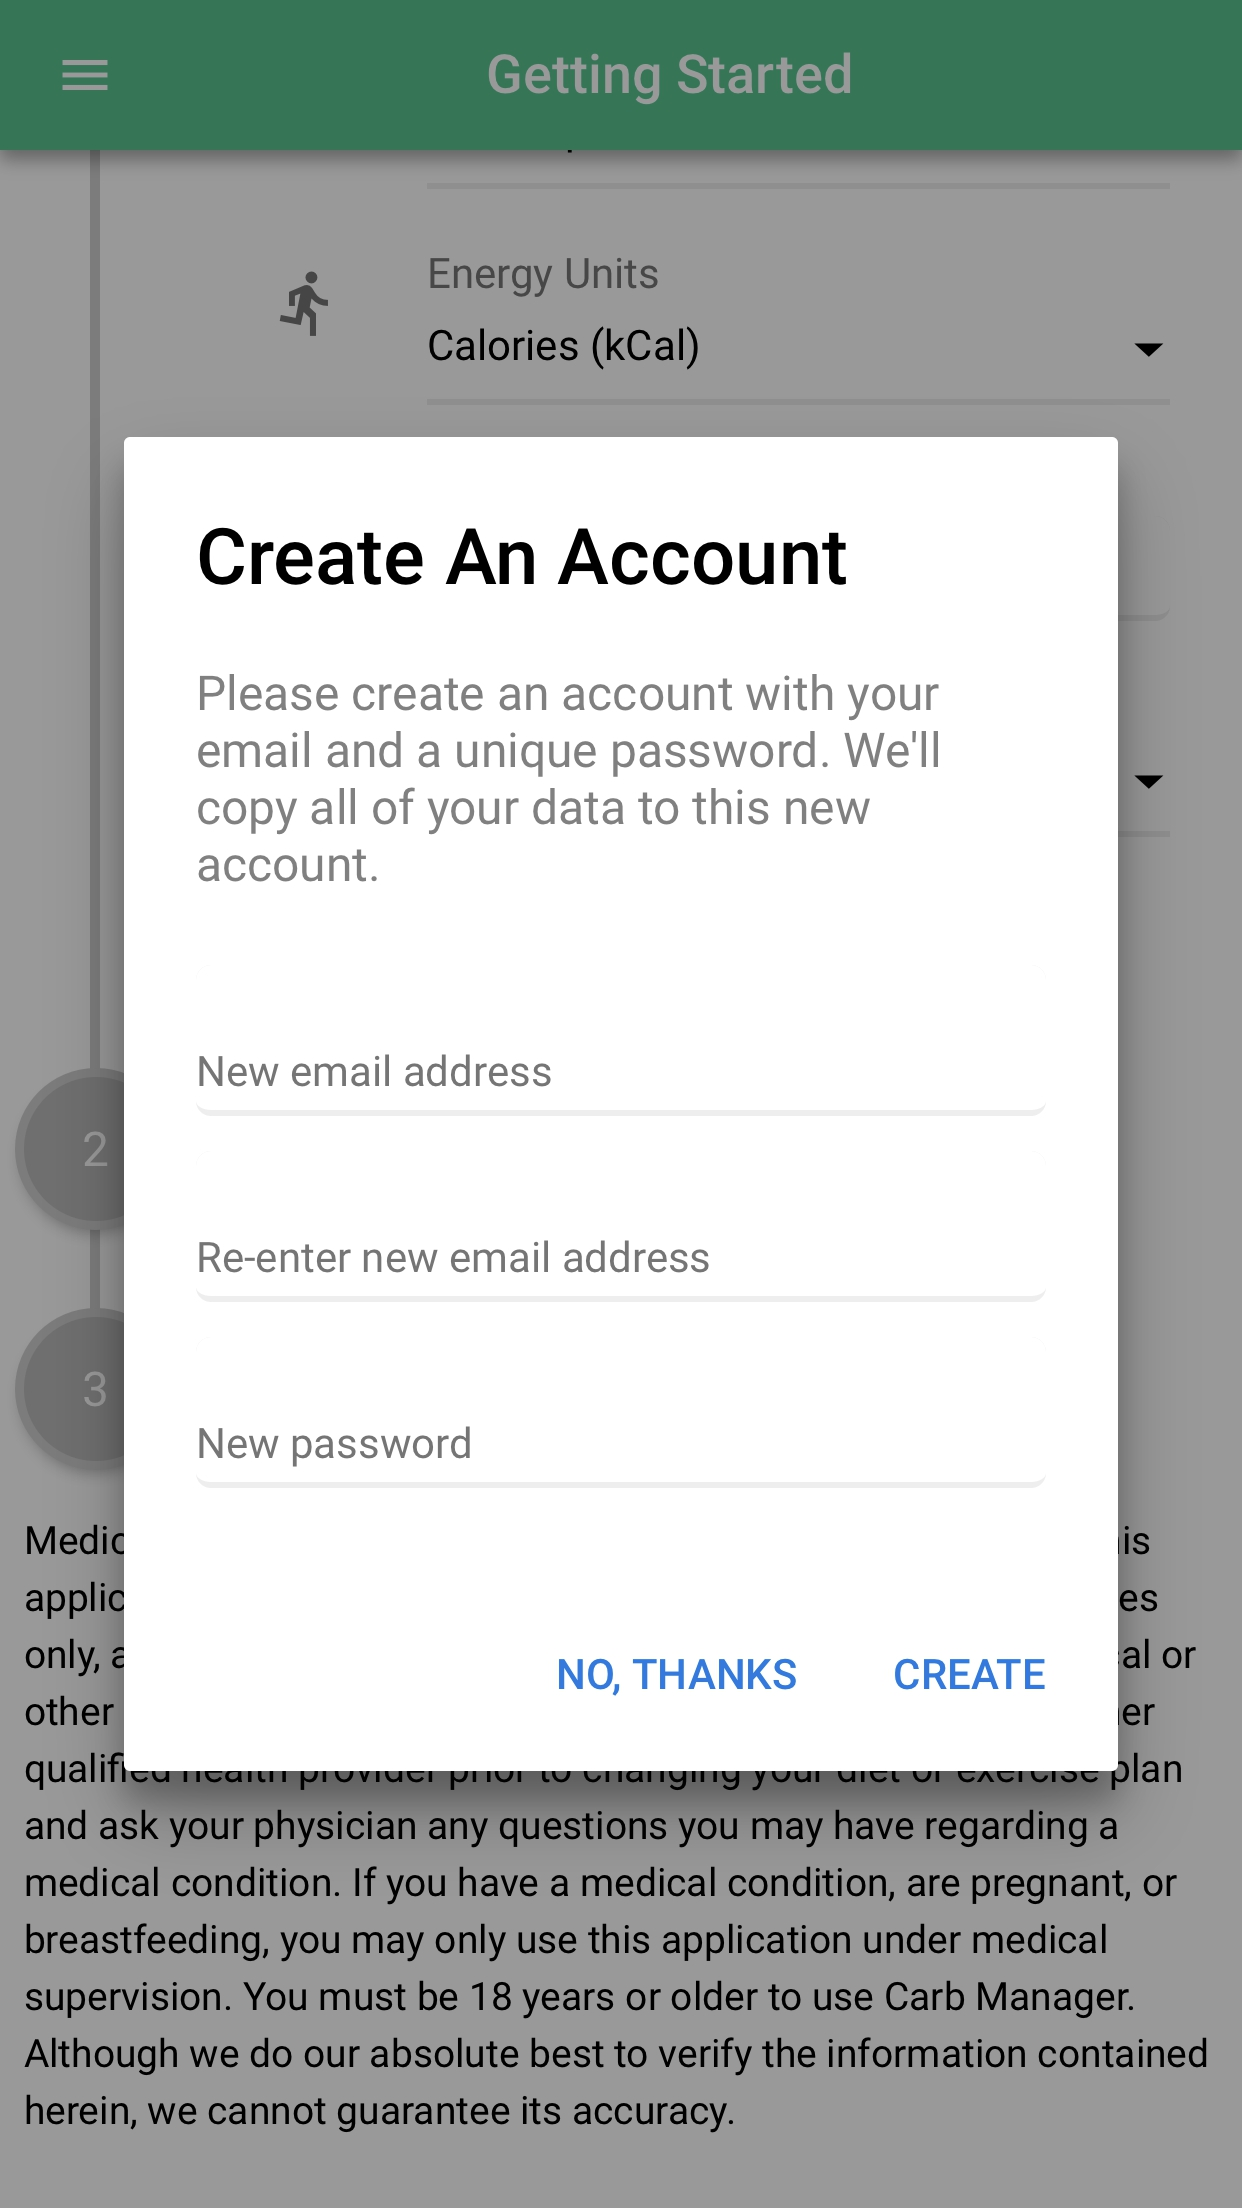EditText: (196, 1052, 1046, 1118), (196, 1425, 1046, 1489), (196, 1239, 1046, 1303)
Icon: (279, 270, 331, 338), (62, 59, 111, 93), (1134, 343, 1165, 359)
Modal: (124, 437, 1119, 1771)
Text: (24, 1808, 1210, 2131), (197, 673, 940, 883), (199, 528, 848, 587), (488, 53, 851, 106), (199, 1240, 710, 1274), (199, 1052, 554, 1087), (429, 328, 701, 372), (199, 1425, 472, 1468), (431, 256, 660, 299), (560, 1658, 798, 1695), (895, 1658, 1046, 1691)
